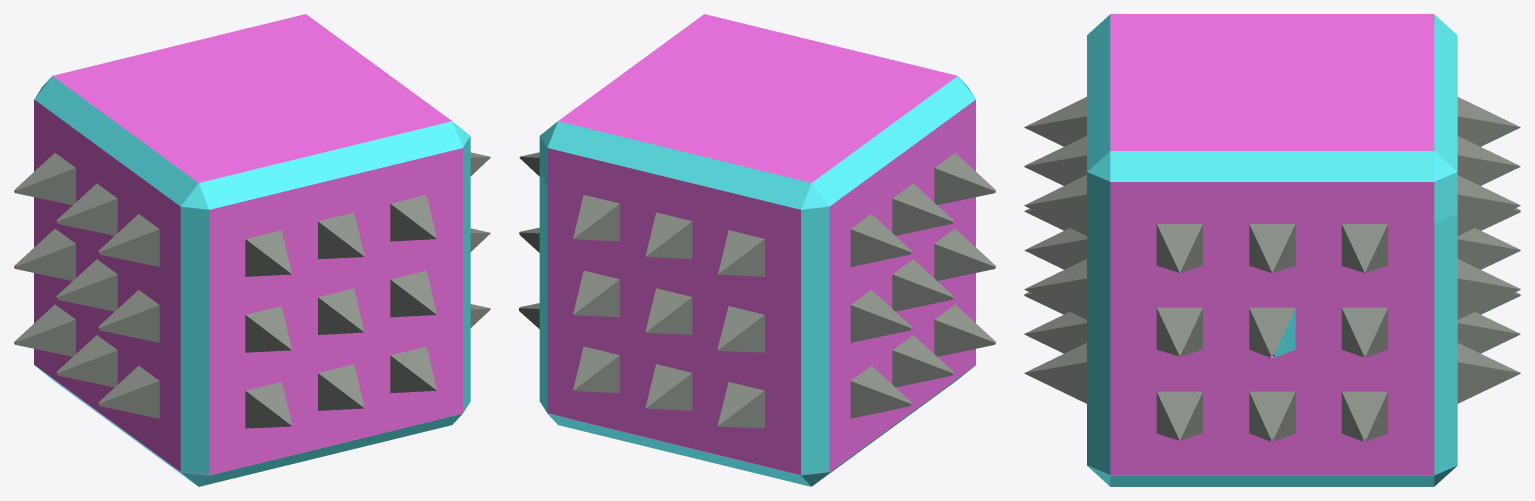
File: CubeObstacle.fbx
3 renders of one model, left to right at view 1: azimuth 30°, elevation 25°; view 2: azimuth 150°, elevation 25°; view 3: azimuth 270°, elevation 25°, orthographic. The views are drawn at different scales.
Parts seen in each view (by area): view 1: Cube; view 2: Cube; view 3: Cube.
Part boxes in pixels (x1,y1,x2,y2): Cube: (14,14,490,486); Cube: (519,14,995,486); Cube: (1024,14,1520,486).
Bounding box in the file's own units: 240 × 178 × 238.
